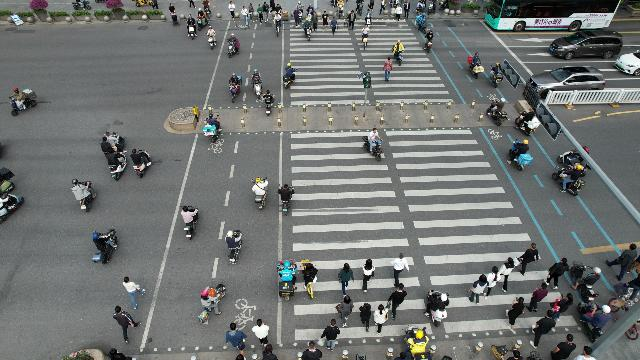non-motor-vehicle: (572, 258, 604, 300), (90, 229, 120, 265), (552, 165, 588, 195), (360, 127, 390, 162), (506, 138, 534, 172), (72, 179, 100, 212), (10, 87, 40, 117), (178, 206, 200, 241), (406, 326, 429, 358), (201, 284, 227, 312), (132, 148, 154, 178), (226, 229, 244, 264), (430, 295, 448, 328), (517, 109, 539, 136), (252, 177, 268, 211), (278, 260, 298, 286), (277, 185, 295, 213), (488, 102, 508, 126), (204, 114, 222, 138), (103, 131, 123, 151), (184, 14, 198, 40), (281, 66, 297, 88), (471, 52, 484, 78), (204, 26, 218, 50), (359, 26, 373, 50), (195, 8, 209, 30), (228, 35, 242, 56), (230, 74, 242, 98), (110, 162, 126, 180), (492, 62, 504, 84), (393, 43, 405, 63), (416, 12, 428, 31), (391, 40, 405, 54), (264, 91, 276, 107), (274, 13, 282, 37), (72, 0, 90, 10), (201, 1, 213, 16), (250, 71, 262, 83), (306, 24, 314, 42), (336, 0, 344, 18), (424, 39, 434, 53), (365, 10, 373, 26), (425, 30, 435, 42), (307, 4, 313, 22), (415, 1, 423, 13)
person: (610, 245, 640, 279), (113, 306, 137, 342), (318, 316, 340, 351), (518, 244, 542, 276), (586, 310, 618, 334), (336, 260, 358, 294), (225, 324, 249, 352), (548, 260, 570, 290), (508, 299, 530, 327), (534, 316, 556, 344), (338, 296, 357, 328), (387, 289, 408, 317), (124, 276, 142, 308), (552, 338, 578, 360), (392, 252, 412, 280), (553, 296, 575, 320), (251, 322, 271, 346), (358, 302, 374, 330), (470, 275, 486, 303), (530, 288, 548, 312), (298, 346, 324, 360), (488, 266, 500, 296), (375, 310, 389, 334), (361, 260, 375, 284), (108, 348, 134, 360), (344, 10, 358, 31), (264, 346, 280, 360), (384, 58, 394, 80), (292, 8, 302, 28), (330, 16, 340, 36), (240, 5, 248, 27), (262, 1, 270, 23), (248, 1, 256, 22), (256, 4, 264, 25), (311, 12, 319, 32), (322, 10, 330, 30), (404, 0, 412, 20), (396, 4, 404, 22), (226, 1, 234, 17), (566, 333, 576, 343), (170, 3, 177, 13)
